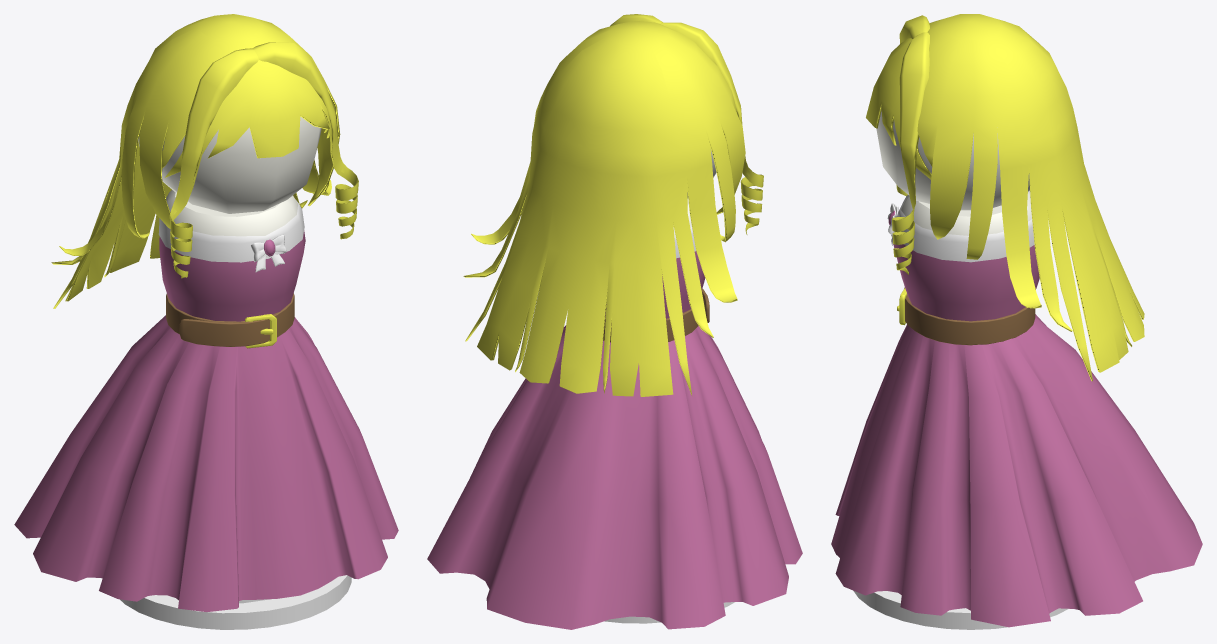
The model's file is OjyouModel (1).fbx.
3 renders of one model, left to right at view 1: azimuth 30°, elevation 25°; view 2: azimuth 150°, elevation 25°; view 3: azimuth 270°, elevation 25°, orthographic. The views are drawn at different scales.
Visible parts, largest first — view 1: S9_5; view 2: S9_5; view 3: S9_5.
Boxes of the visible parts, left/top/right/bottom form: S9_5: left=14, top=14, right=398, bottom=629; S9_5: left=427, top=14, right=802, bottom=629; S9_5: left=831, top=14, right=1202, bottom=629.
Bounding box in the file's own units: 106 × 165 × 99.73.
